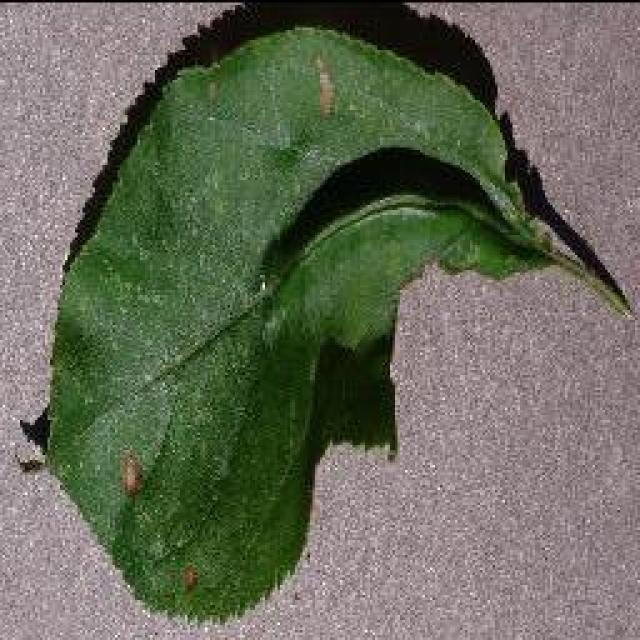apple scab disease: (22, 0, 632, 628)
